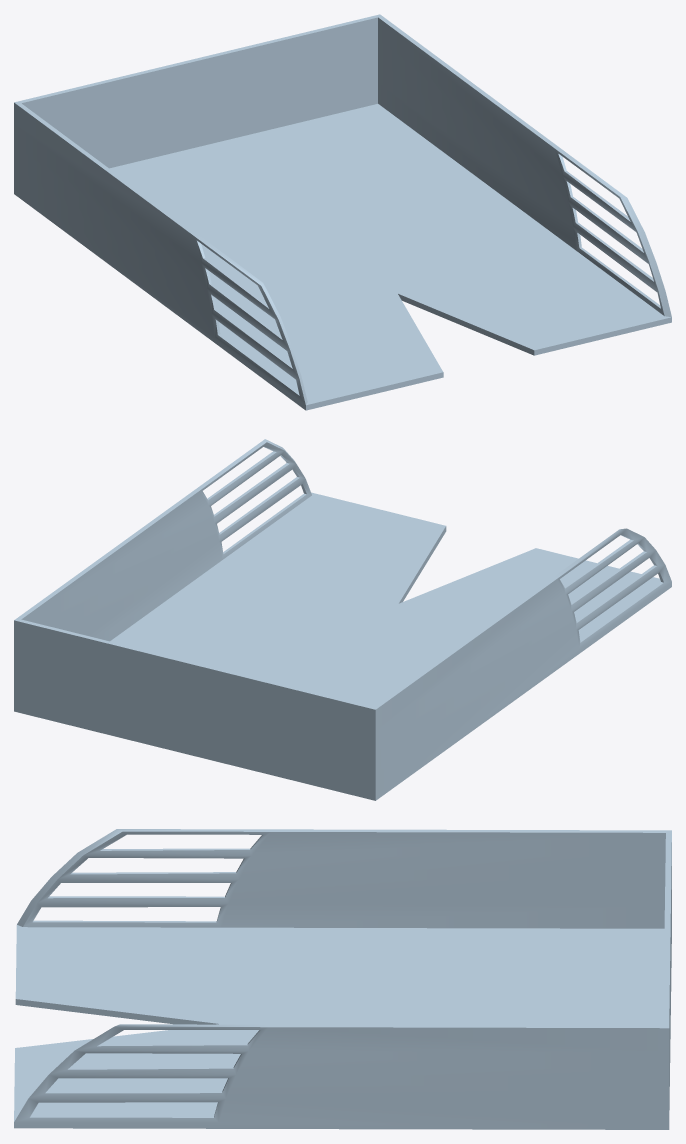
Rendered from porta hojas2.fbx.
3 renders of one model, top to bottom at view 1: azimuth 30°, elevation 25°; view 2: azimuth 150°, elevation 25°; view 3: azimuth 270°, elevation 25°, orthographic. The views are drawn at different scales.
Visible parts, largest first — view 1: Plane.001; view 2: Plane.001; view 3: Plane.001.
Part boxes in pixels (box(x1,y1,x2,y2)): Plane.001: box(14, 14, 671, 410); Plane.001: box(14, 439, 671, 800); Plane.001: box(14, 829, 671, 1129).
Bounding box in the file's own units: 25.21 × 6 × 35.15.
